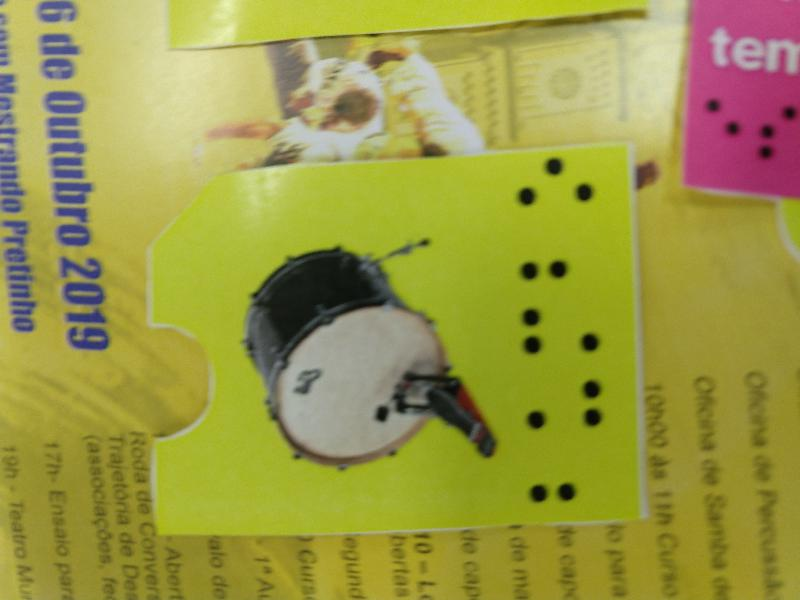bumbo: (145, 155, 647, 532)
